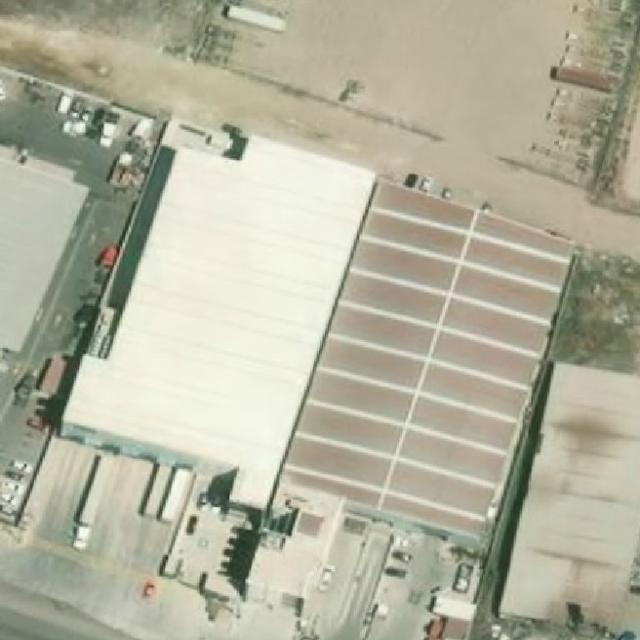Batiment: (65, 136, 374, 506), (0, 154, 88, 350)
